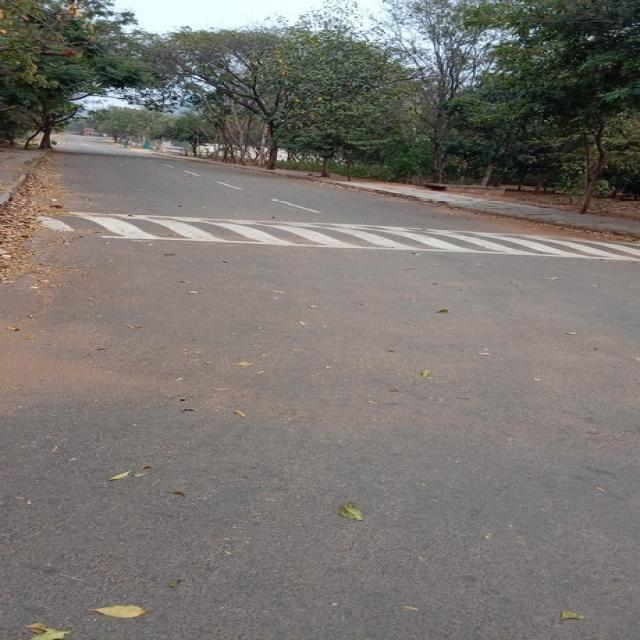crosswalk: (26, 206, 640, 266)
